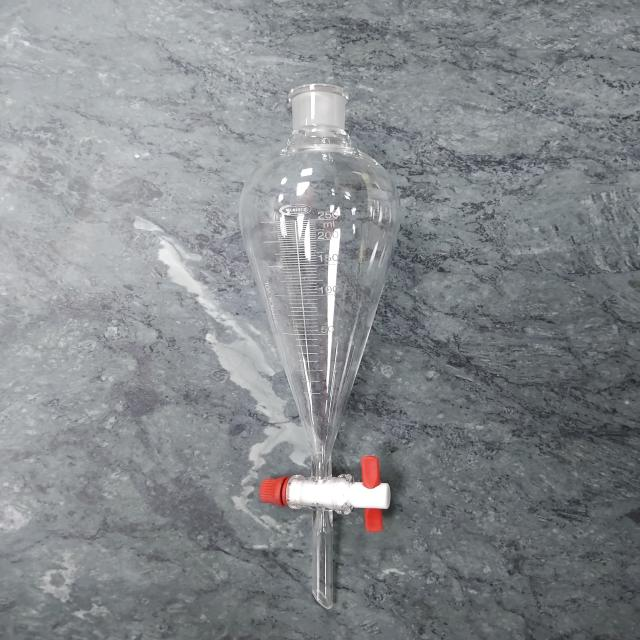Separating_Funnel: (207, 60, 437, 627)
